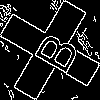B: (25, 25, 81, 76)
